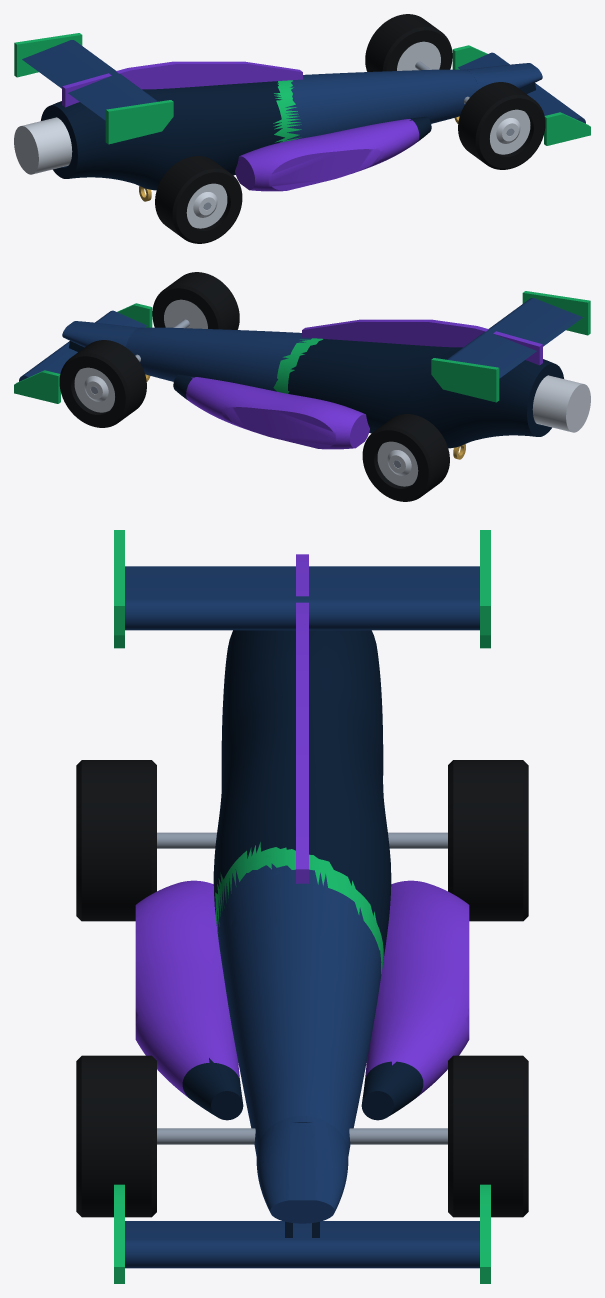
3 renders of one model, top to bottom at view 1: azimuth 30°, elevation 25°; view 2: azimuth 150°, elevation 25°; view 3: azimuth 270°, elevation 25°, orthographic. The views are drawn at different scales.
Visible parts, largest first — view 1: 01_Cuerpo, 02_Ponton_der, 17_Llanta_del_der__Llanta_DD, 19_Llanta_tras_der__Llanta_TD, 09_Aleron_tras, 24_Espina, 16_Llanta_del_izq__Llanta_DI, 15_Cartucho_CO2, 10_Placa_tras_der, 19_Llanta_tras_der__Rin_TD, 17_Llanta_del_der__Rin_DD, 04_Nariz (+5 smaller); view 2: 01_Cuerpo, 03_Ponton_izq, 16_Llanta_del_izq__Llanta_DI, 18_Llanta_tras_izq__Llanta_TI, 09_Aleron_tras, 24_Espina, 17_Llanta_del_der__Llanta_DD, 15_Cartucho_CO2, 11_Placa_tras_izq, 18_Llanta_tras_izq__Rin_TI, 16_Llanta_del_izq__Rin_DI, 04_Nariz (+5 smaller); view 3: 01_Cuerpo, 09_Aleron_tras, 03_Ponton_izq, 02_Ponton_der, 05_Aleron_del, 16_Llanta_del_izq__Llanta_DI, 17_Llanta_del_der__Llanta_DD, 18_Llanta_tras_izq__Llanta_TI, 19_Llanta_tras_der__Llanta_TD, 04_Nariz, 24_Espina, 20_Eje_delantero (+5 smaller).
Part boxes in pixels (x1,y1,x2,y2): 01_Cuerpo: [41, 69, 479, 190]; 02_Ponton_der: [235, 116, 431, 191]; 17_Llanta_del_der__Llanta_DD: [458, 82, 545, 169]; 19_Llanta_tras_der__Llanta_TD: [155, 156, 242, 243]; 09_Aleron_tras: [22, 40, 157, 120]; 24_Espina: [62, 61, 302, 107]; 16_Llanta_del_izq__Llanta_DI: [365, 14, 452, 71]; 15_Cartucho_CO2: [14, 117, 72, 174]; 10_Placa_tras_der: [105, 100, 173, 144]; 19_Llanta_tras_der__Rin_TD: [186, 183, 227, 228]; 17_Llanta_del_der__Rin_DD: [490, 109, 530, 154]; 04_Nariz: [465, 63, 542, 89]; 01_Cuerpo: [125, 327, 563, 448]; 03_Ponton_izq: [173, 374, 369, 449]; 16_Llanta_del_izq__Llanta_DI: [59, 340, 146, 427]; 18_Llanta_tras_izq__Llanta_TI: [362, 414, 449, 501]; 09_Aleron_tras: [447, 298, 582, 378]; 24_Espina: [302, 319, 542, 365]; 17_Llanta_del_der__Llanta_DD: [152, 272, 239, 329]; 15_Cartucho_CO2: [532, 375, 590, 432]; 11_Placa_tras_izq: [431, 358, 499, 402]; 18_Llanta_tras_izq__Rin_TI: [377, 441, 418, 486]; 16_Llanta_del_izq__Rin_DI: [74, 367, 114, 412]; 04_Nariz: [62, 321, 139, 347]; 01_Cuerpo: [213, 630, 391, 1155]; 09_Aleron_tras: [125, 566, 479, 630]; 03_Ponton_izq: [361, 880, 469, 1120]; 02_Ponton_der: [135, 880, 243, 1120]; 05_Aleron_del: [125, 1221, 479, 1268]; 16_Llanta_del_izq__Llanta_DI: [448, 1055, 528, 1217]; 17_Llanta_del_der__Llanta_DD: [76, 1055, 156, 1217]; 18_Llanta_tras_izq__Llanta_TI: [448, 760, 528, 921]; 19_Llanta_tras_der__Llanta_TD: [76, 760, 156, 921]; 04_Nariz: [256, 1116, 348, 1223]; 24_Espina: [296, 554, 308, 883]; 20_Eje_delantero: [157, 1128, 447, 1144].
Size of the model in its own units: 0.222 by 0.0605 by 0.084.
